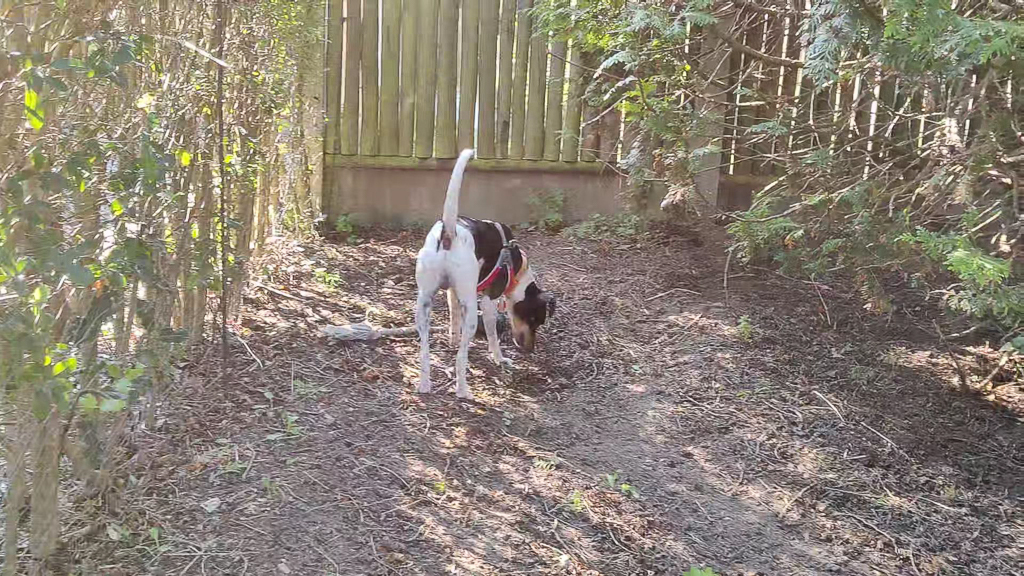Dog: (384, 132, 574, 419)
